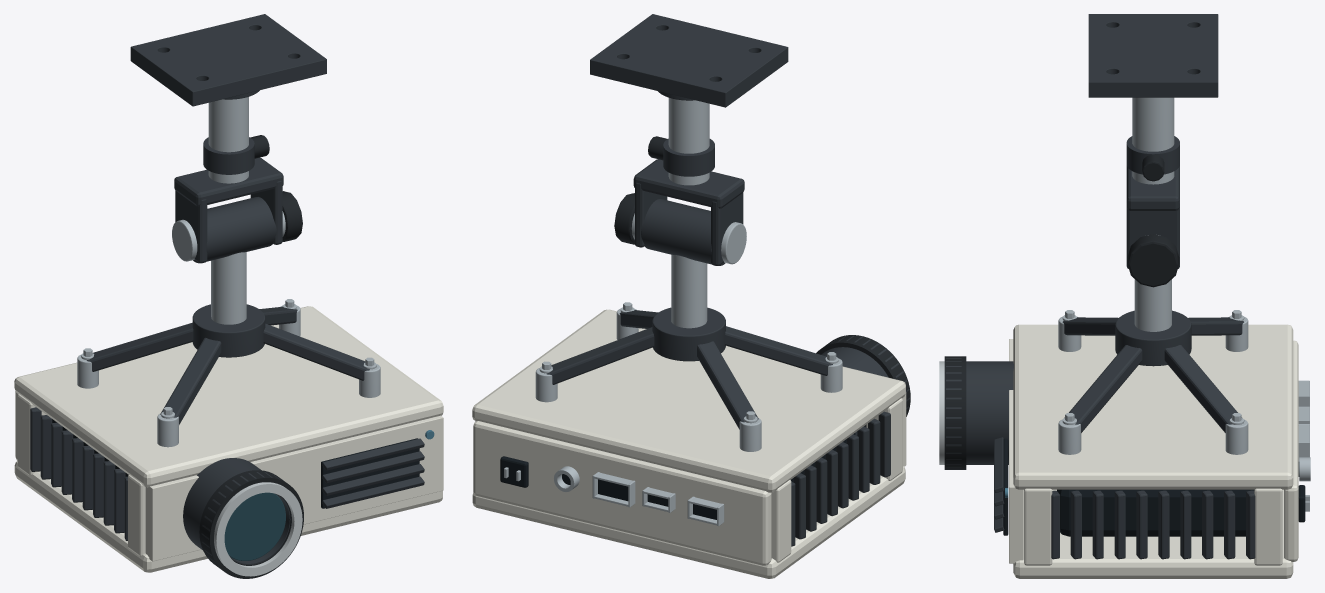
File: city-ceiling-projector.glb
3 renders of one model, left to right at view 1: azimuth 30°, elevation 25°; view 2: azimuth 150°, elevation 25°; view 3: azimuth 270°, elevation 25°, orthographic. The views are drawn at different scales.
Visible parts, largest first — view 1: Assembly | Warm ivory equipment polymer, Assembly | Graphite satin equipment enamel, Assembly | Brushed stainless hardware, Assembly | Dark rubber pads grips and screen border, Assembly | Opaque dark blue optical placeholder, no transpar, Assembly | Satin anodized aluminum, Assembly | Charcoal matte recessed interiors; view 2: Assembly | Warm ivory equipment polymer, Assembly | Graphite satin equipment enamel, Assembly | Brushed stainless hardware, Assembly | Dark rubber pads grips and screen border, Assembly | Charcoal matte recessed interiors; view 3: Assembly | Warm ivory equipment polymer, Assembly | Graphite satin equipment enamel, Assembly | Brushed stainless hardware, Assembly | Charcoal matte recessed interiors, Assembly | Dark rubber pads grips and screen border, Assembly | Satin anodized aluminum.
Part boxes in pixels (x1=…): Assembly | Warm ivory equipment polymer: x1=14, y1=306, x2=443, y2=572; Assembly | Graphite satin equipment enamel: x1=30, y1=14, x2=424, y2=567; Assembly | Brushed stainless hardware: x1=77, y1=97, x2=380, y2=447; Assembly | Dark rubber pads grips and screen border: x1=199, y1=135, x2=303, y2=578; Assembly | Opaque dark blue optical placeholder, no transpar: x1=224, y1=492, x2=285, y2=560; Assembly | Satin anodized aluminum: x1=214, y1=482, x2=302, y2=576; Assembly | Charcoal matte recessed interiors: x1=52, y1=419, x2=419, y2=508; Assembly | Warm ivory equipment polymer: x1=472, y1=309, x2=906, y2=578; Assembly | Graphite satin equipment enamel: x1=546, y1=14, x2=909, y2=546; Assembly | Brushed stainless hardware: x1=504, y1=98, x2=842, y2=526; Assembly | Dark rubber pads grips and screen border: x1=614, y1=136, x2=910, y2=416; Assembly | Charcoal matte recessed interiors: x1=500, y1=433, x2=855, y2=519; Assembly | Warm ivory equipment polymer: x1=1009, y1=324, x2=1298, y2=578; Assembly | Graphite satin equipment enamel: x1=946, y1=14, x2=1255, y2=559; Assembly | Brushed stainless hardware: x1=1058, y1=97, x2=1310, y2=511; Assembly | Charcoal matte recessed interiors: x1=1003, y1=438, x2=1305, y2=536; Assembly | Dark rubber pads grips and screen border: x1=944, y1=154, x2=1179, y2=469; Assembly | Satin anodized aluminum: x1=939, y1=361, x2=944, y2=464.
Size of the model in its own units: 0.4495 by 0.6335 by 0.458.
